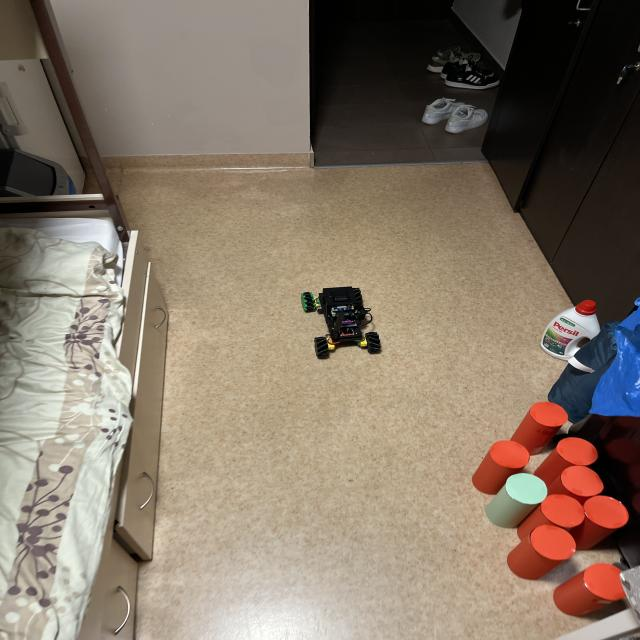robot: (301, 287, 380, 359)
